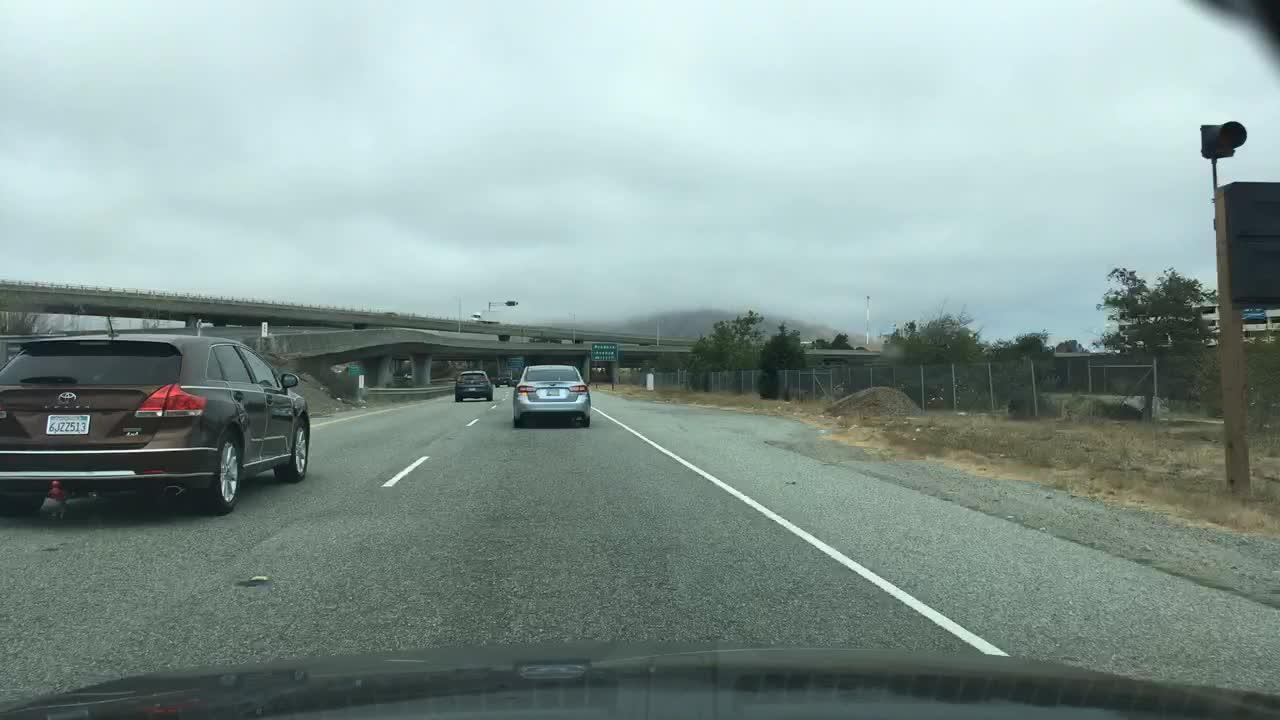Toyota: (54, 389, 83, 409)
